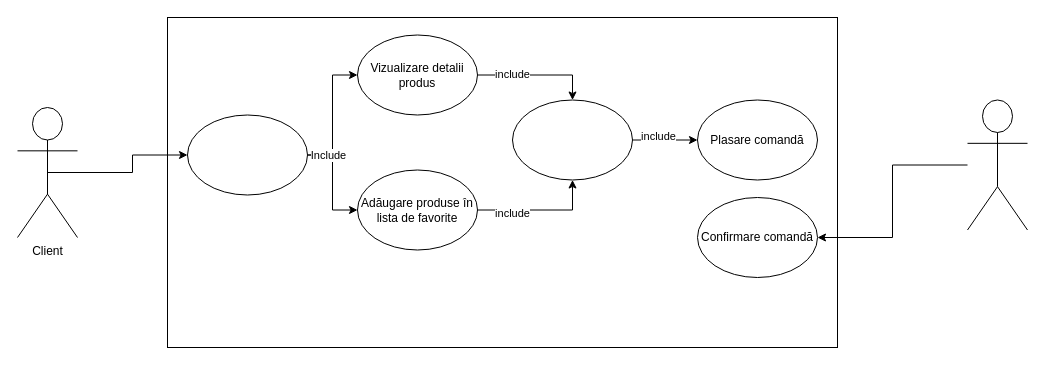
Image size: 1050x365. Some labels were removed from this diagram. The centre of each missing label's shape, as x and y in pixels:
Administrator: [997,164]
Adăugare produse în coș: [572,139]
Căutare produse: [247,154]
